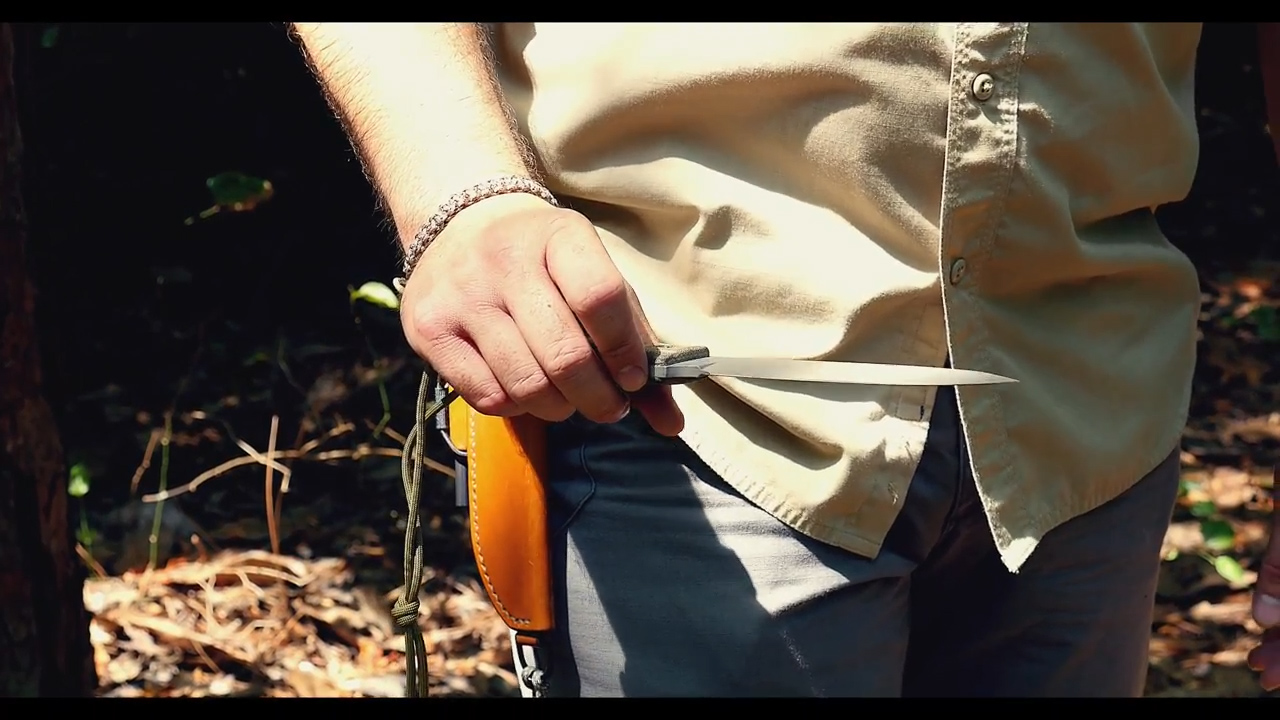knife: (434, 265, 1036, 445)
